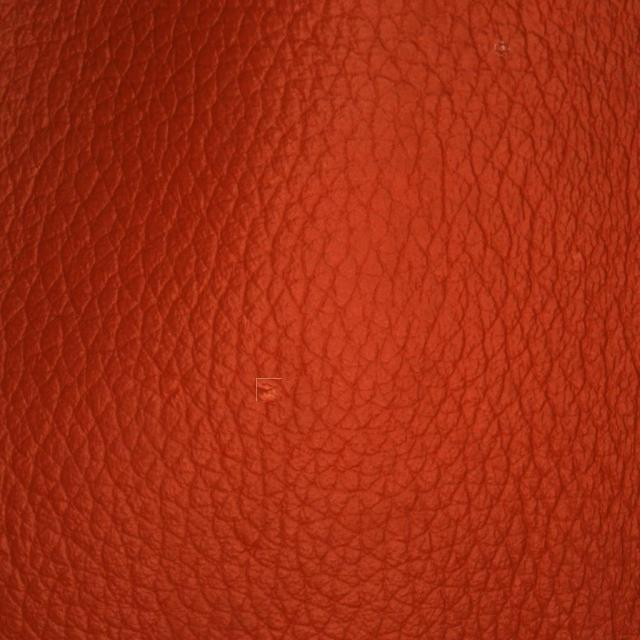Bacterial Injury: (169, 310, 371, 482)
